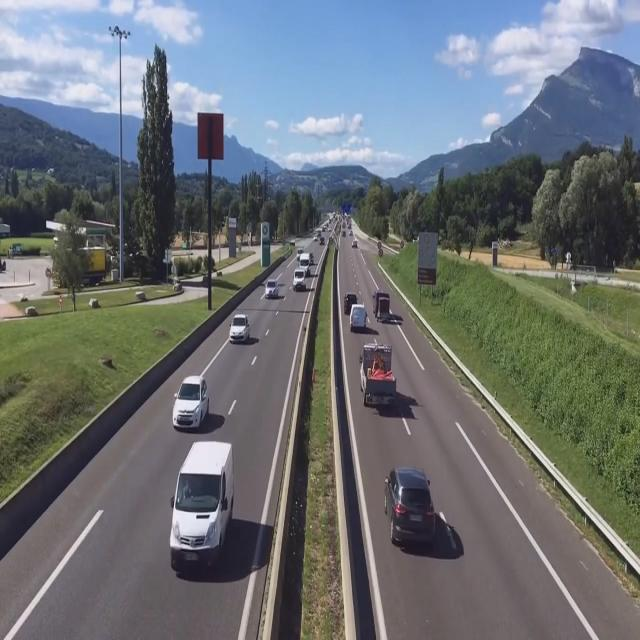car: (169, 442, 236, 578), (387, 467, 442, 557), (174, 377, 212, 433), (229, 313, 252, 346), (348, 302, 368, 331), (374, 290, 388, 316), (266, 279, 282, 301), (293, 268, 308, 291), (345, 290, 357, 314)
truck: (361, 338, 396, 413)
